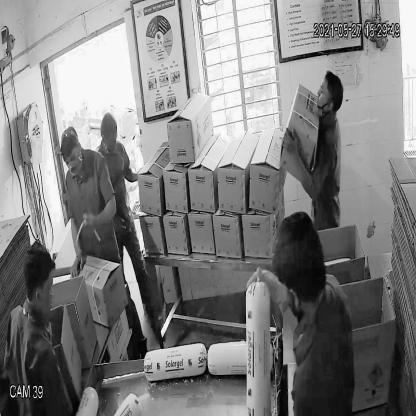no_goggles: (61, 147, 83, 169)
